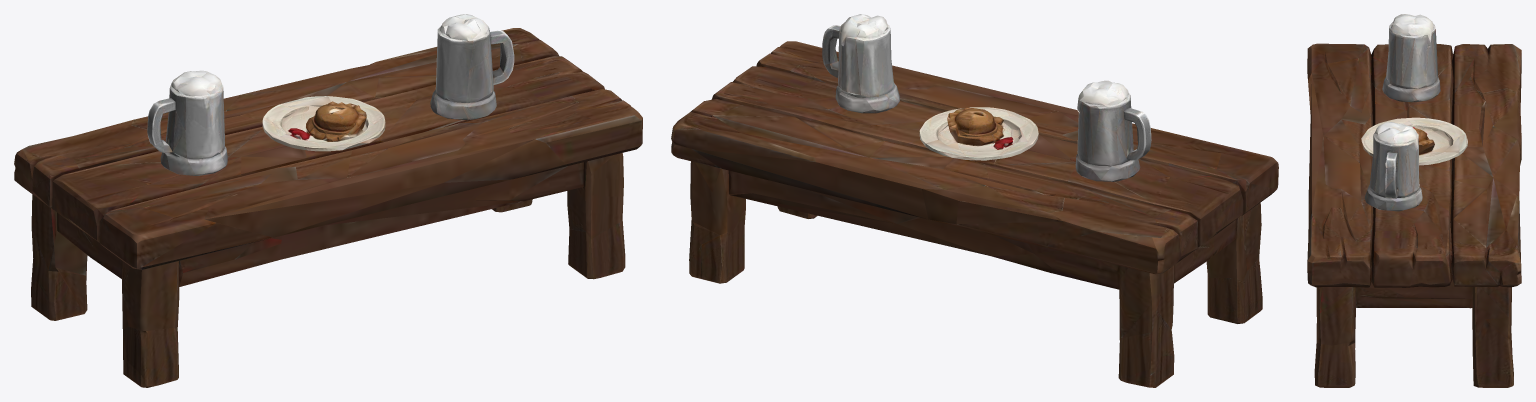
Rendered from tavern_table_3d.glb.
3 renders of one model, left to right at view 1: azimuth 30°, elevation 25°; view 2: azimuth 150°, elevation 25°; view 3: azimuth 270°, elevation 25°, orthographic. The views are drawn at different scales.
Visible parts, largest first — view 1: Mesh_0; view 2: Mesh_0; view 3: Mesh_0.
Boxes of the visible parts, <box> form: Mesh_0: <box>14,14,642,387</box>; Mesh_0: <box>671,14,1278,387</box>; Mesh_0: <box>1307,14,1521,387</box>.
Size of the model in its own units: 1.9 by 0.875 by 0.7974.
Materials: 1 (1 with a texture image).
